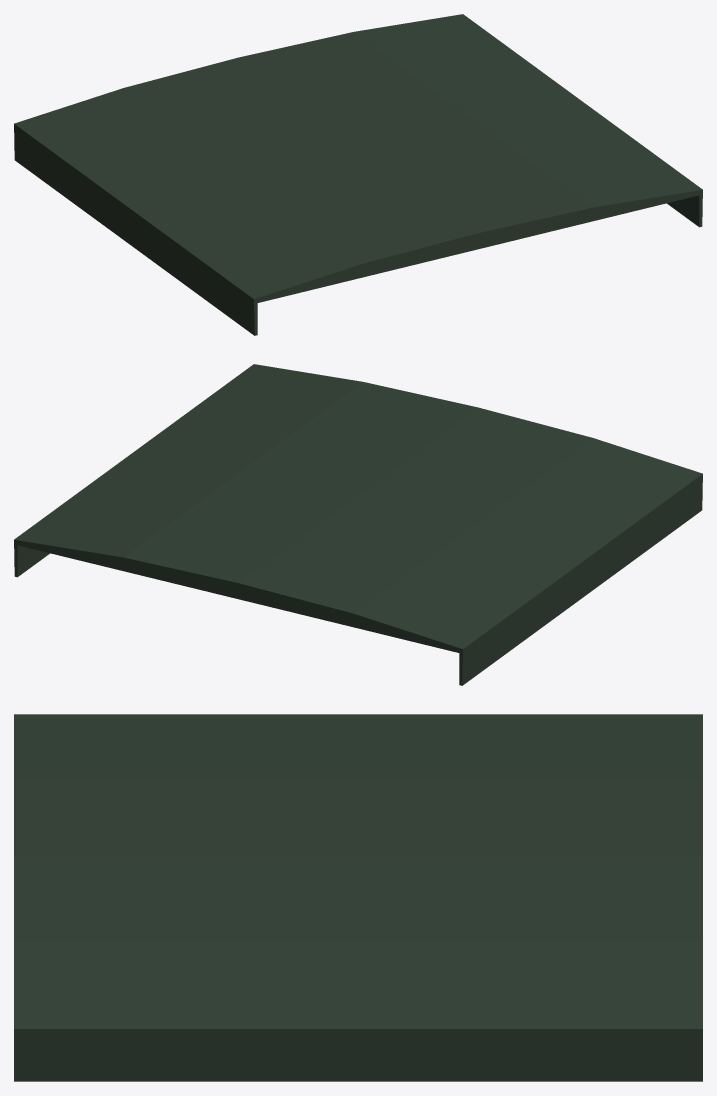
File: Itr_Bed_Double_Blanket_16.FBX
The picture shows the model from 3 angles, top to bottom: view 1: azimuth 30°, elevation 25°; view 2: azimuth 150°, elevation 25°; view 3: azimuth 270°, elevation 25°; orthographic projection. The views are drawn at different scales.
Parts seen in each view (by area): view 1: Itr_Bed_Double_Blanket_16; view 2: Itr_Bed_Double_Blanket_16; view 3: Itr_Bed_Double_Blanket_16.
Boxes of the visible parts, <box> form: Itr_Bed_Double_Blanket_16: <box>14,14,702,335</box>; Itr_Bed_Double_Blanket_16: <box>14,364,702,685</box>; Itr_Bed_Double_Blanket_16: <box>14,714,702,1081</box>.
Size of the model in its own units: 70.1 by 7.19 by 64.86.
